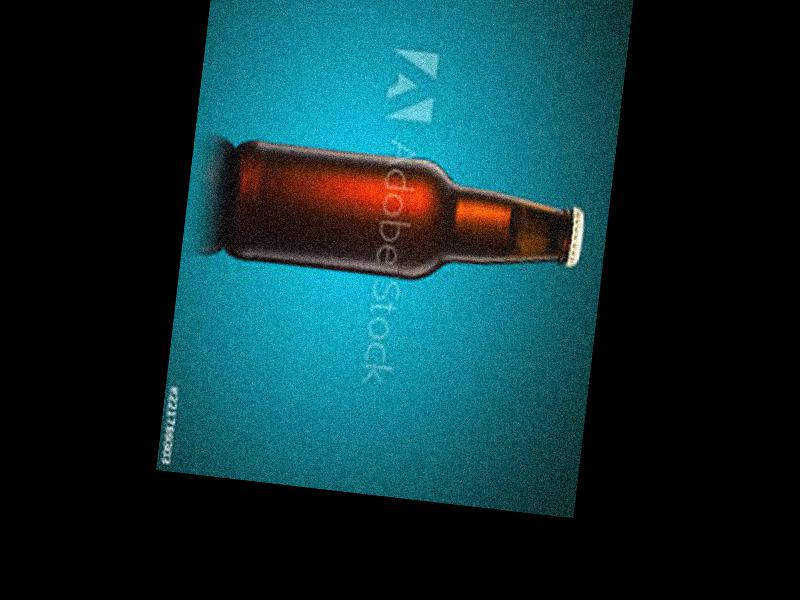Beer: (219, 138, 589, 300)
